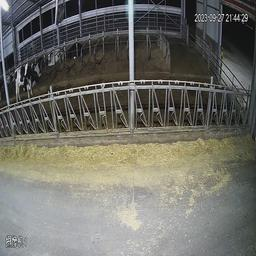cow: (10, 65, 37, 108), (64, 35, 84, 64), (44, 41, 61, 65)
